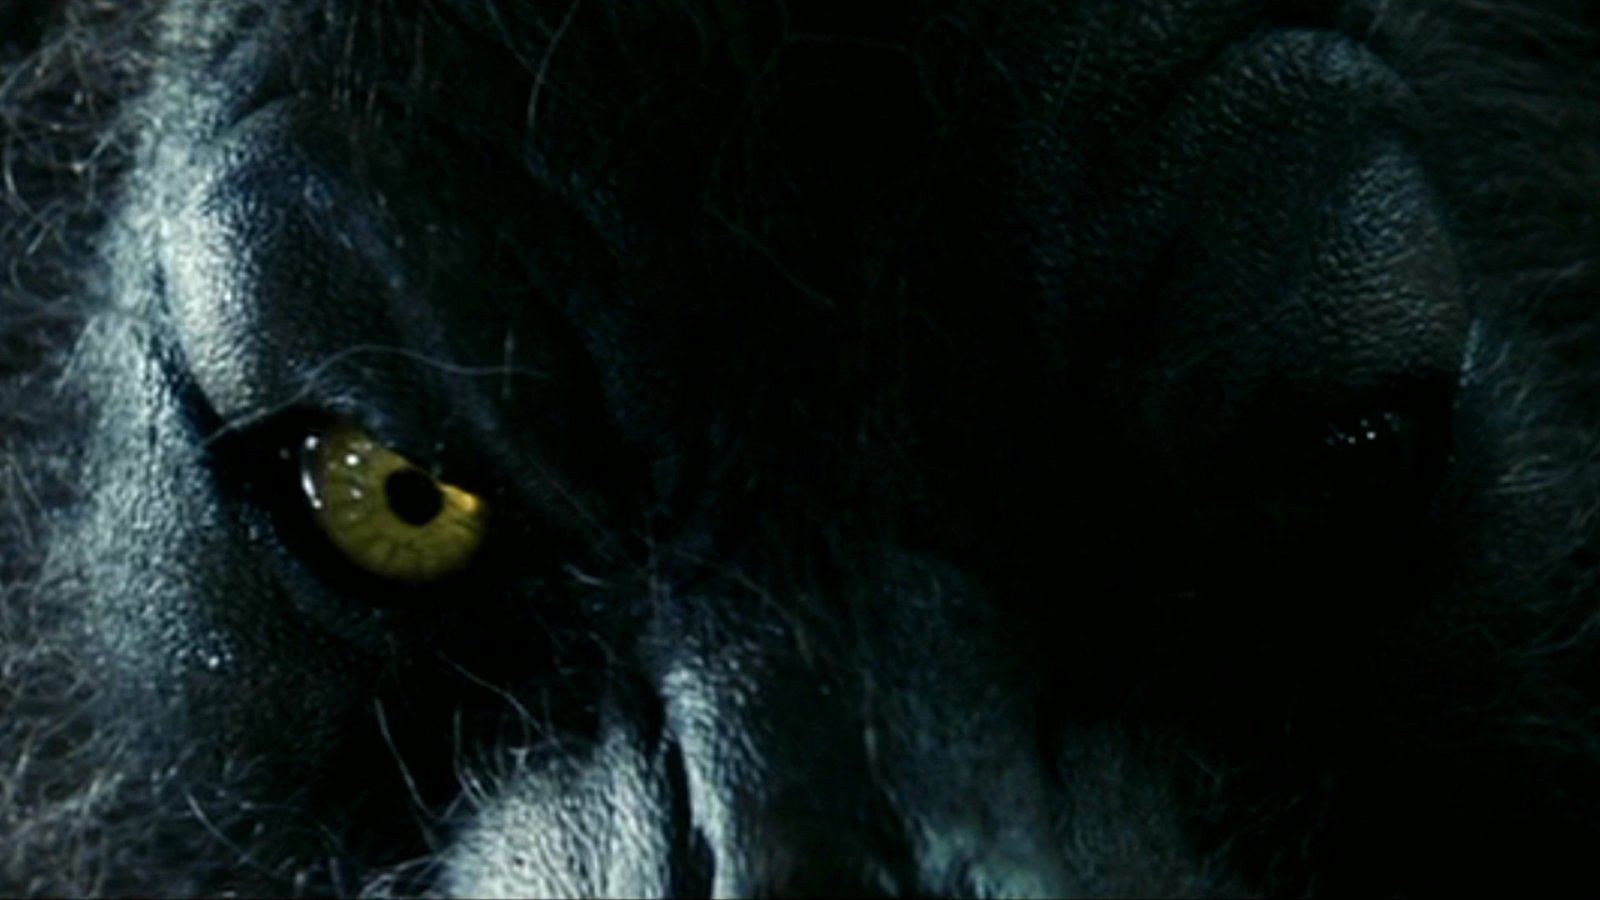Lobo: (51, 19, 1538, 875)
